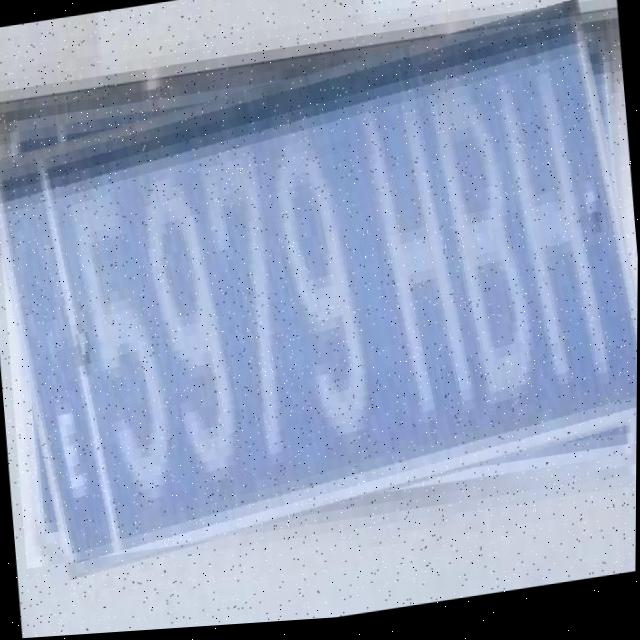LicensePlate: (0, 16, 640, 570)
